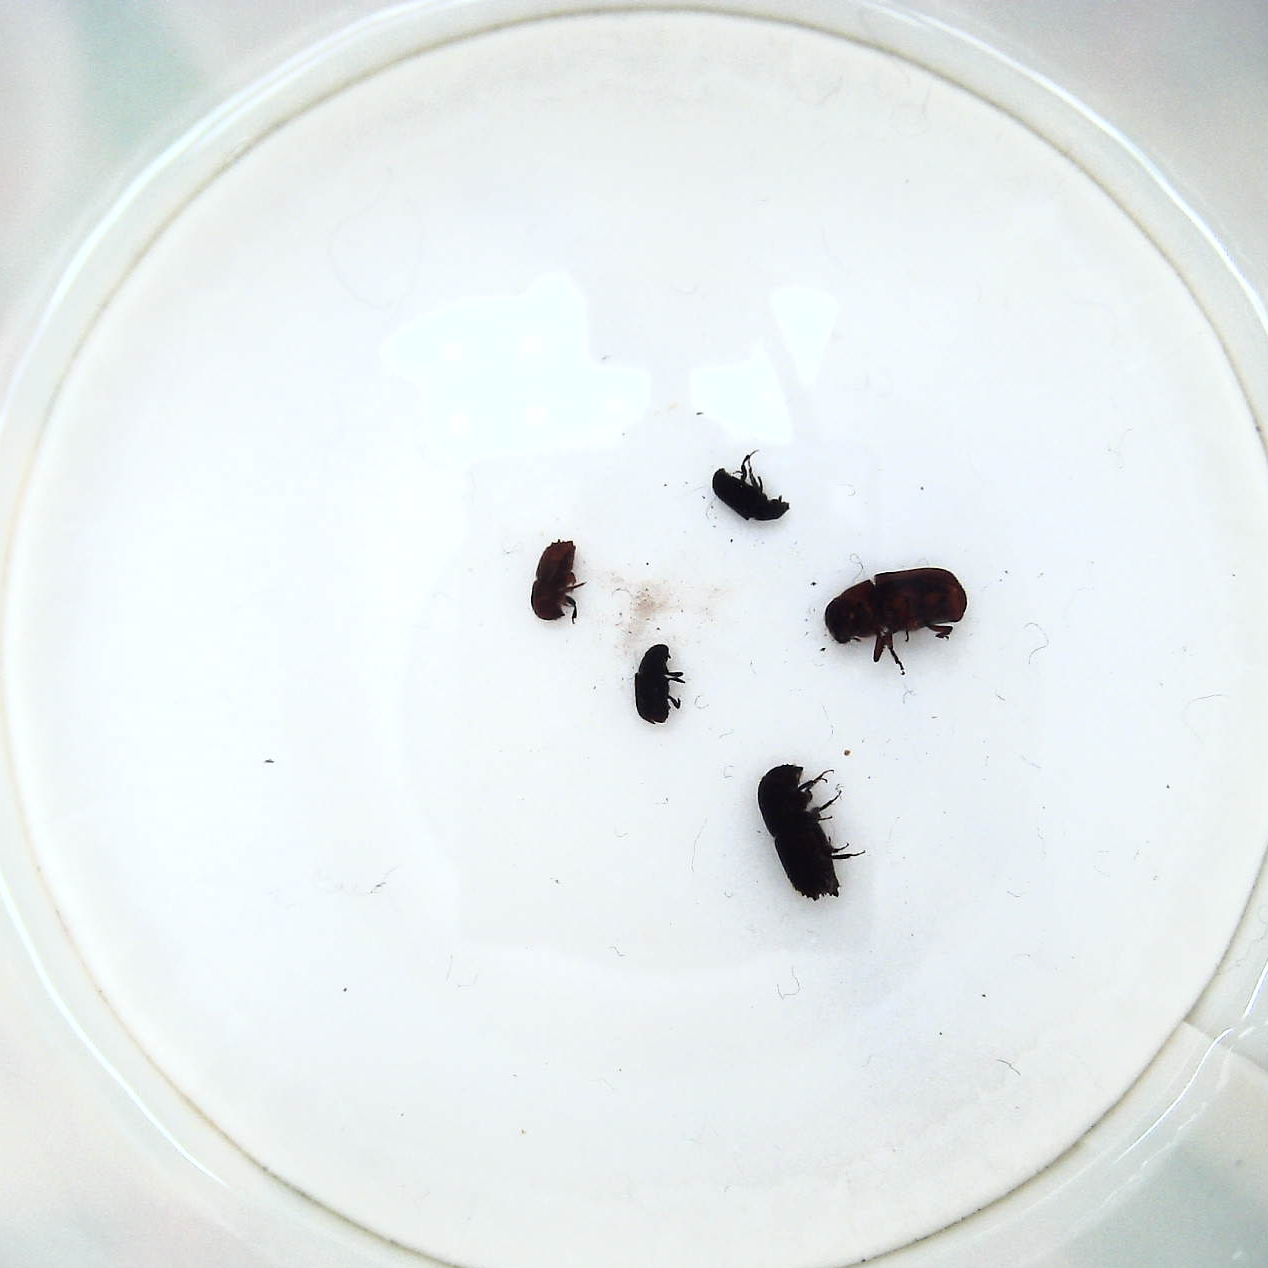Boerner: (758, 752, 869, 907)
Leconte: (824, 561, 970, 673)
armandi: (634, 639, 687, 726)
coleoptera: (709, 439, 790, 531)
linnaeus: (531, 539, 585, 626)
